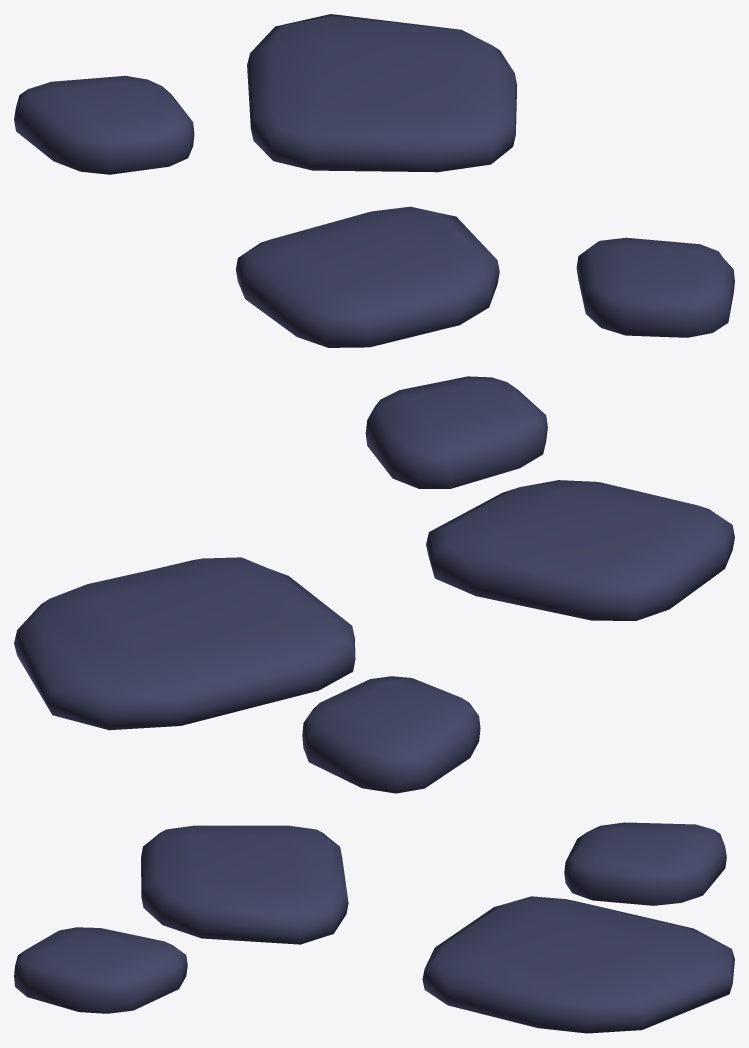
Rendered from SM_Prop_Pebbles.fbx.
3 views of the same model, one above another, from view 1: azimuth 30°, elevation 25°; view 2: azimuth 150°, elevation 25°; view 3: azimuth 270°, elevation 25° (orthographic). The views are drawn at different scales.
Parts seen in each view (by area): view 1: SM_Prop_Pebbles; view 2: SM_Prop_Pebbles; view 3: SM_Prop_Pebbles.
Part boxes in pixels (x1,y1,x2,y2): SM_Prop_Pebbles: (14,14,734,347); SM_Prop_Pebbles: (14,376,734,793); SM_Prop_Pebbles: (14,822,734,1033).
Size of the model in its own units: 158 by 12.83 by 257.
